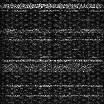lte: (1, 3, 104, 9), (1, 65, 104, 70), (1, 58, 104, 61), (1, 83, 104, 86), (1, 94, 104, 97), (1, 37, 104, 40)
